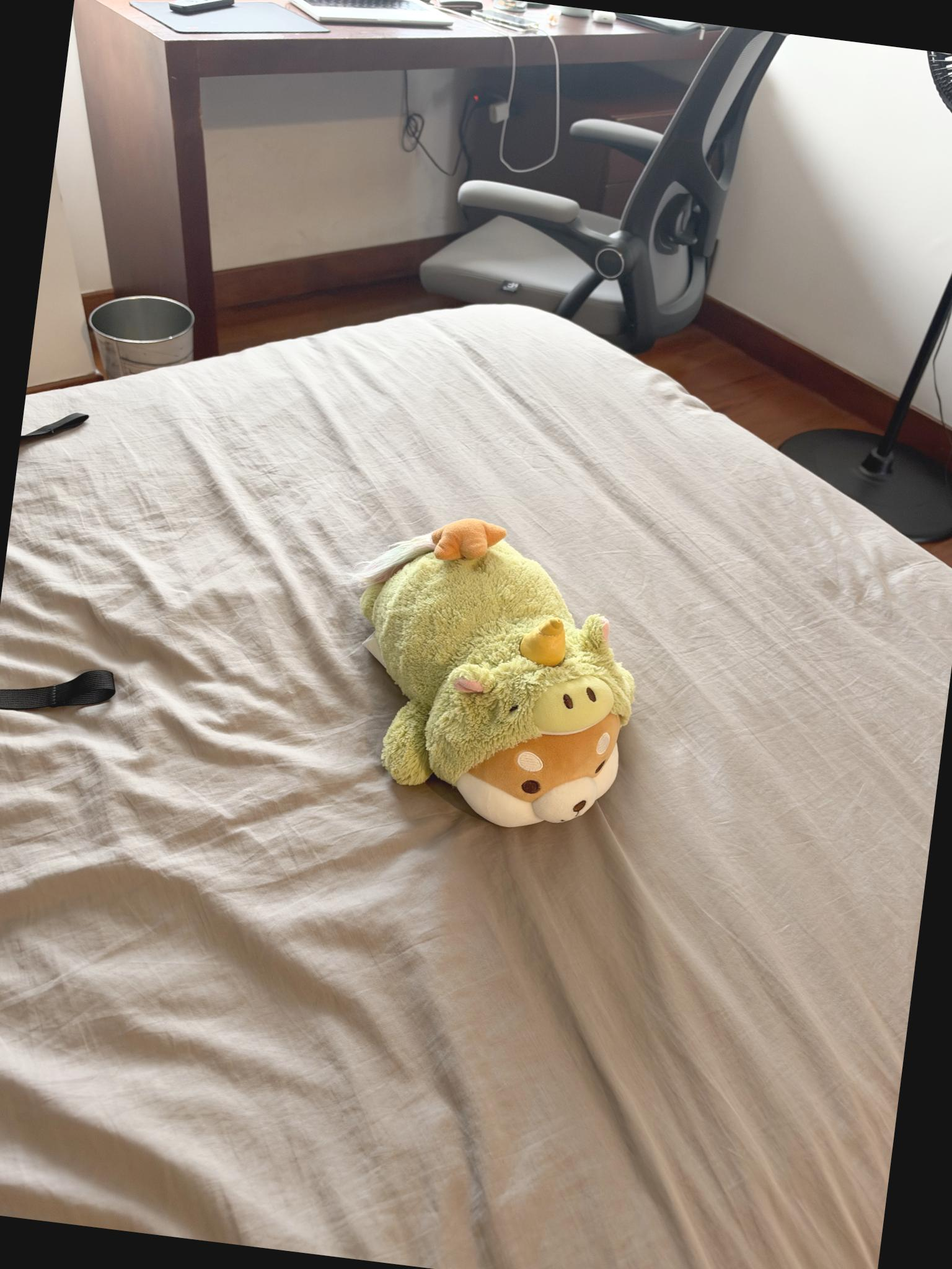peluche_martin: (320, 502, 657, 843)
